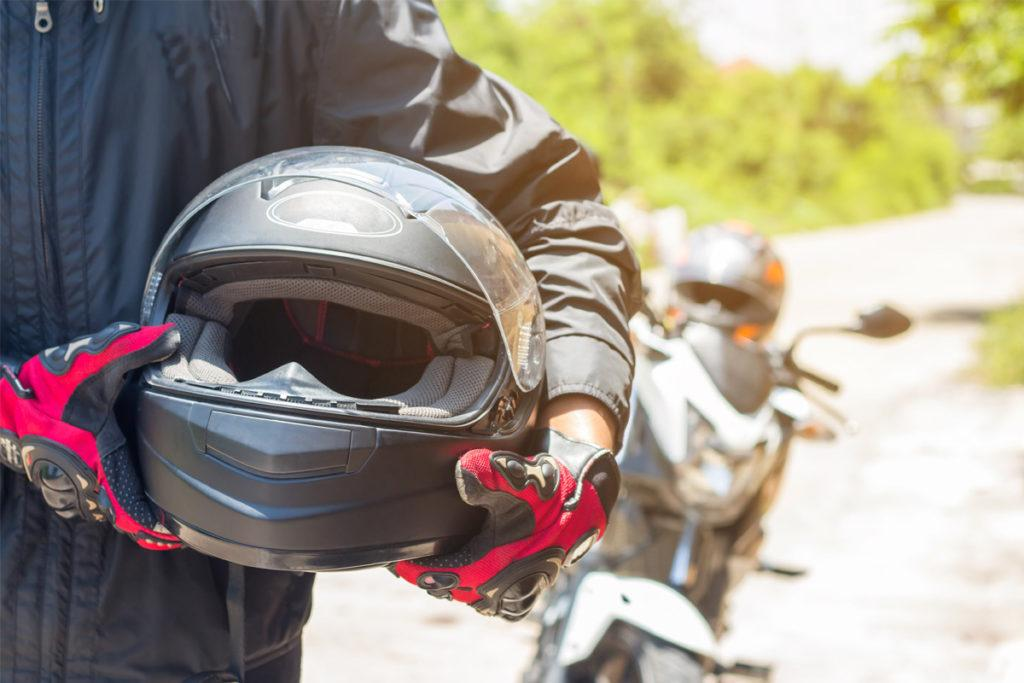Helmet: (125, 147, 543, 570)
